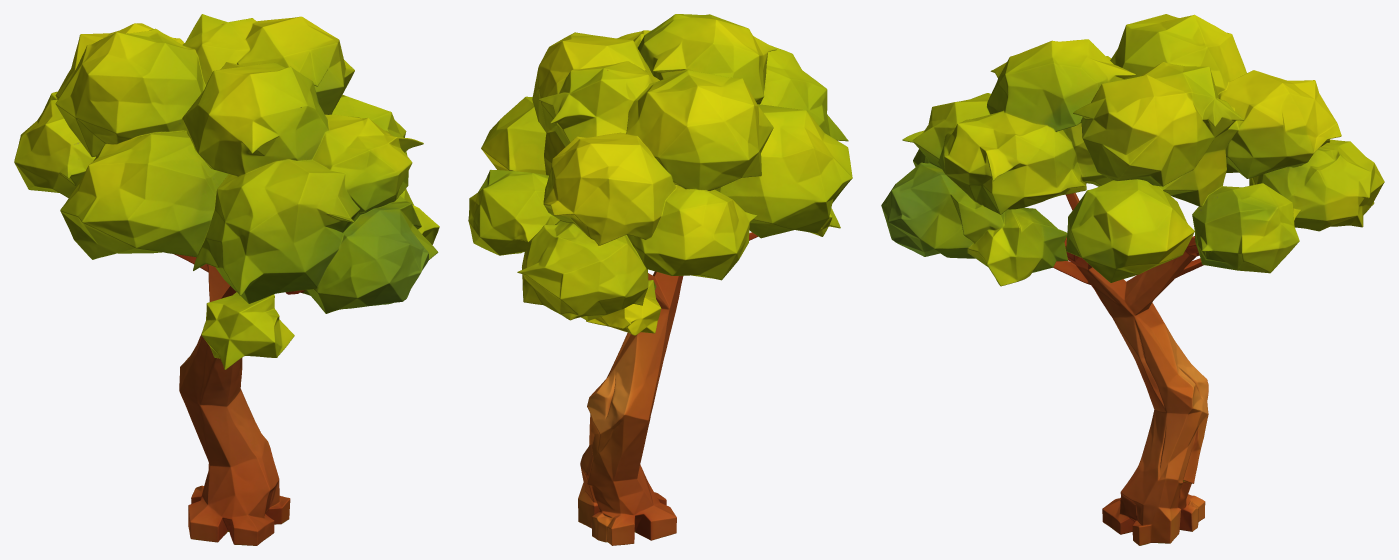
File: Savanna_Env_Acacia.glb
3 views of the same model, side by side, from view 1: azimuth 30°, elevation 25°; view 2: azimuth 150°, elevation 25°; view 3: azimuth 270°, elevation 25° (orthographic). The views are drawn at different scales.
Visible parts, largest first — view 1: tripo_node_9199506d-f59c-480e-81ef-accb274c3b17; view 2: tripo_node_9199506d-f59c-480e-81ef-accb274c3b17; view 3: tripo_node_9199506d-f59c-480e-81ef-accb274c3b17.
Part boxes in pixels (box(x1,y1,x2,y2)): tripo_node_9199506d-f59c-480e-81ef-accb274c3b17: box(14, 14, 439, 545); tripo_node_9199506d-f59c-480e-81ef-accb274c3b17: box(468, 14, 852, 545); tripo_node_9199506d-f59c-480e-81ef-accb274c3b17: box(881, 14, 1384, 545).
Bounding box in the file's own units: 0.7359 × 1 × 0.9769.
Materials: 1 (1 with a texture image).
